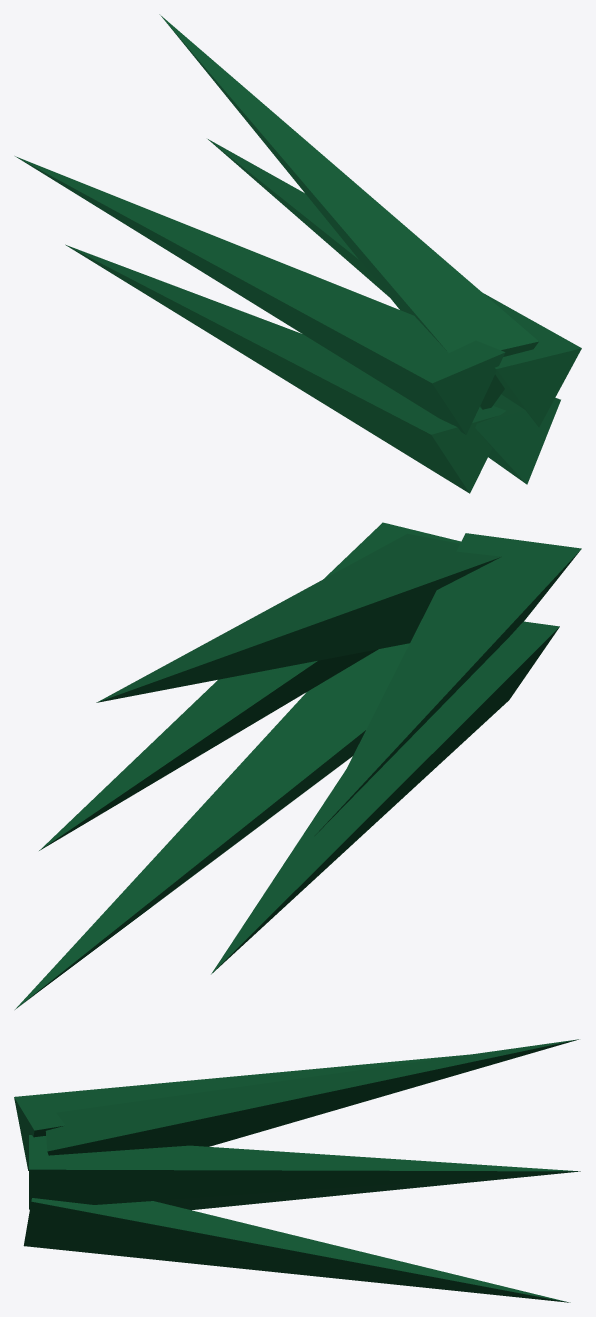
Rendered from grama_baixa.fbx.
3 views of the same model, one above another, from view 1: azimuth 30°, elevation 25°; view 2: azimuth 150°, elevation 25°; view 3: azimuth 270°, elevation 25° (orthographic). The views are drawn at different scales.
Visible parts, largest first — view 1: Cone.002; view 2: Cone.002; view 3: Cone.002.
Part boxes in pixels (box(x1,y1,x2,y2)): Cone.002: box(15, 14, 581, 493); Cone.002: box(15, 522, 581, 1009); Cone.002: box(14, 1039, 580, 1302).
Bounding box in the file's own units: 0.2053 × 0.0932 × 0.0879.
